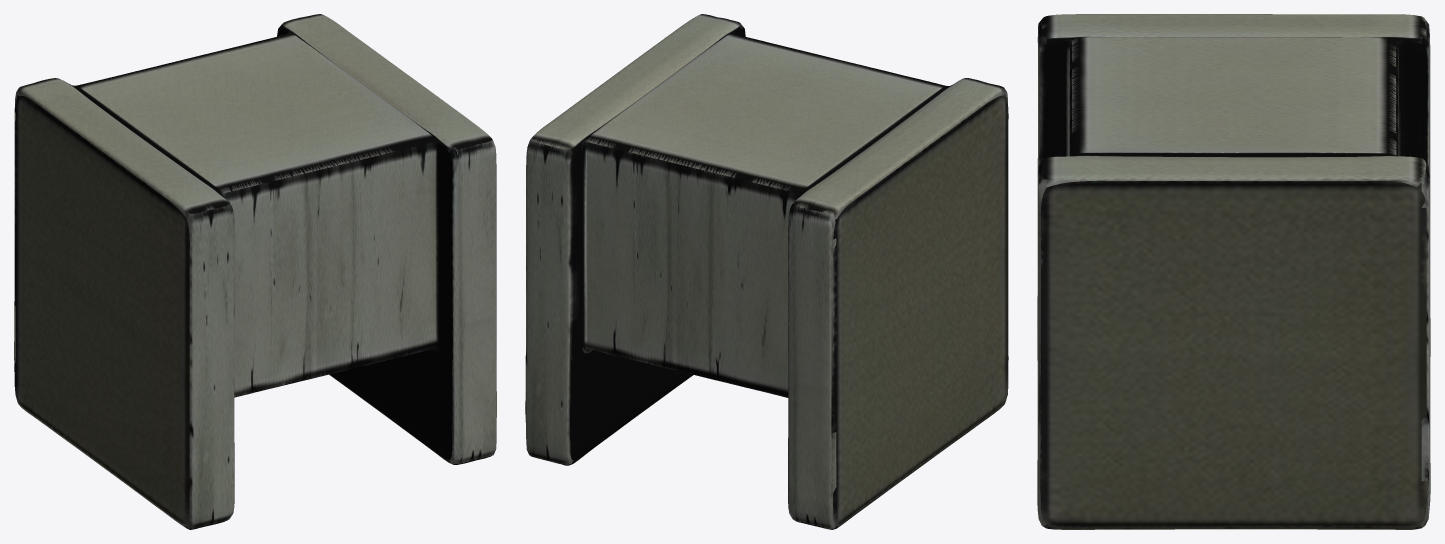
File: beam-concrete.glb
The picture shows the model from 3 angles, left to right: view 1: azimuth 30°, elevation 25°; view 2: azimuth 150°, elevation 25°; view 3: azimuth 270°, elevation 25°; orthographic projection. The views are drawn at different scales.
Visible parts, largest first — view 1: tmp_mwmos2t.ply; view 2: tmp_mwmos2t.ply; view 3: tmp_mwmos2t.ply.
Part boxes in pixels (<box>): tmp_mwmos2t.ply: <box>14,14,496,529</box>; tmp_mwmos2t.ply: <box>525,14,1008,529</box>; tmp_mwmos2t.ply: <box>1037,14,1430,529</box>.
Bounding box in the file's own units: 1 × 1 × 1.
Materials: 1 (1 with a texture image).
